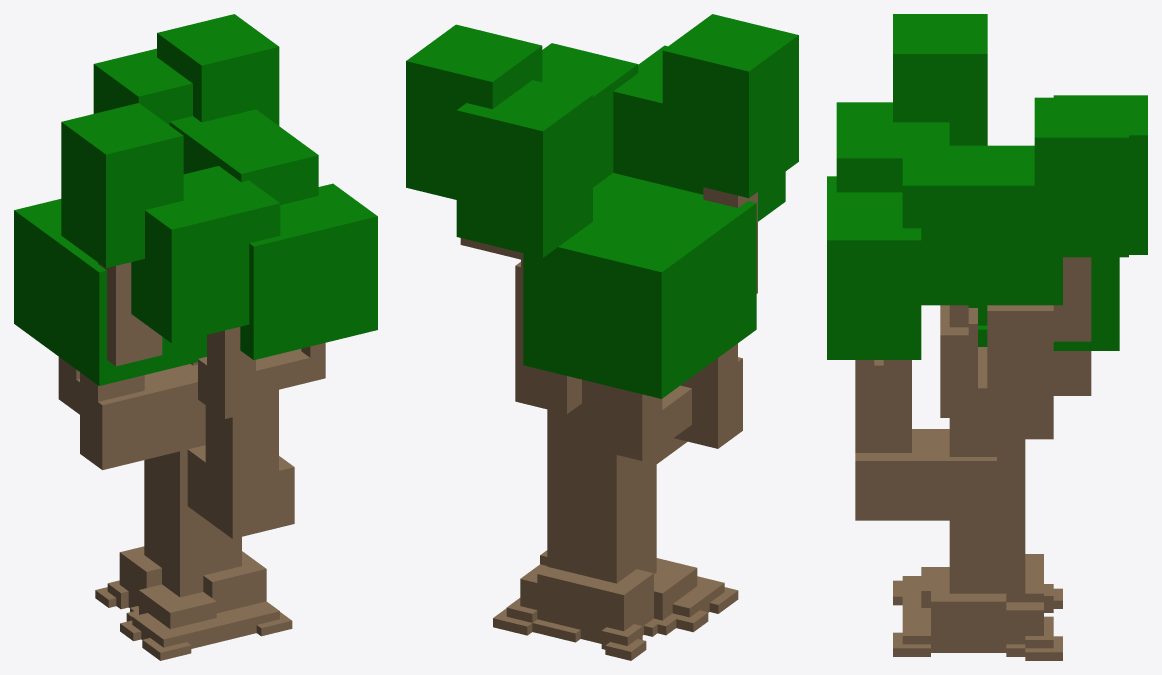
Rendered from big_tree.obj.
3 views of the same model, side by side, from view 1: azimuth 30°, elevation 25°; view 2: azimuth 150°, elevation 25°; view 3: azimuth 270°, elevation 25° (orthographic). The views are drawn at different scales.
Bounding box in the file's own units: 31 × 64 × 34.
Materials: 1 (1 with a texture image).
